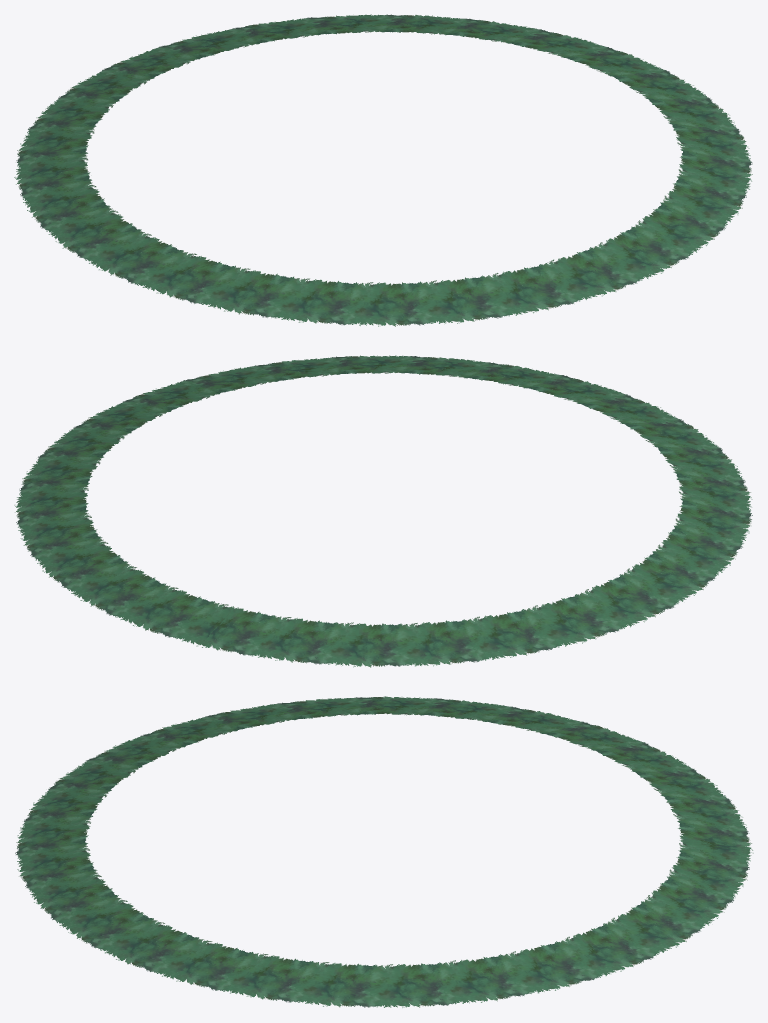
The model's file is grass_mesh_04.fbx.
3 views of the same model, one above another, from view 1: azimuth 30°, elevation 25°; view 2: azimuth 150°, elevation 25°; view 3: azimuth 270°, elevation 25° (orthographic).
Visible parts, largest first — view 1: grass_mesh_04; view 2: grass_mesh_04; view 3: grass_mesh_04.
Boxes of the visible parts, x1,y1,x2,y2 form: grass_mesh_04: (14, 14, 752, 326); grass_mesh_04: (14, 355, 752, 667); grass_mesh_04: (15, 696, 753, 1007).
Bounding box in the file's own units: 98.05 × 1.93 × 98.05.
